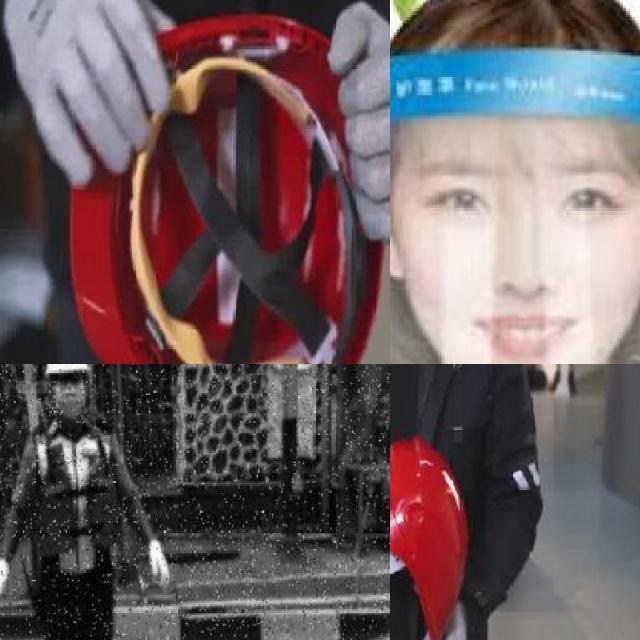apron: (1, 0, 176, 193), (324, 0, 390, 247), (414, 601, 467, 640), (144, 536, 174, 588), (0, 556, 11, 609)
